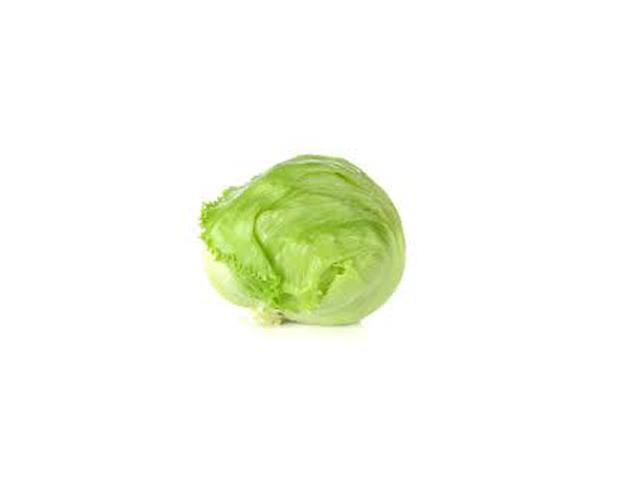lettuce: (175, 135, 423, 326)
